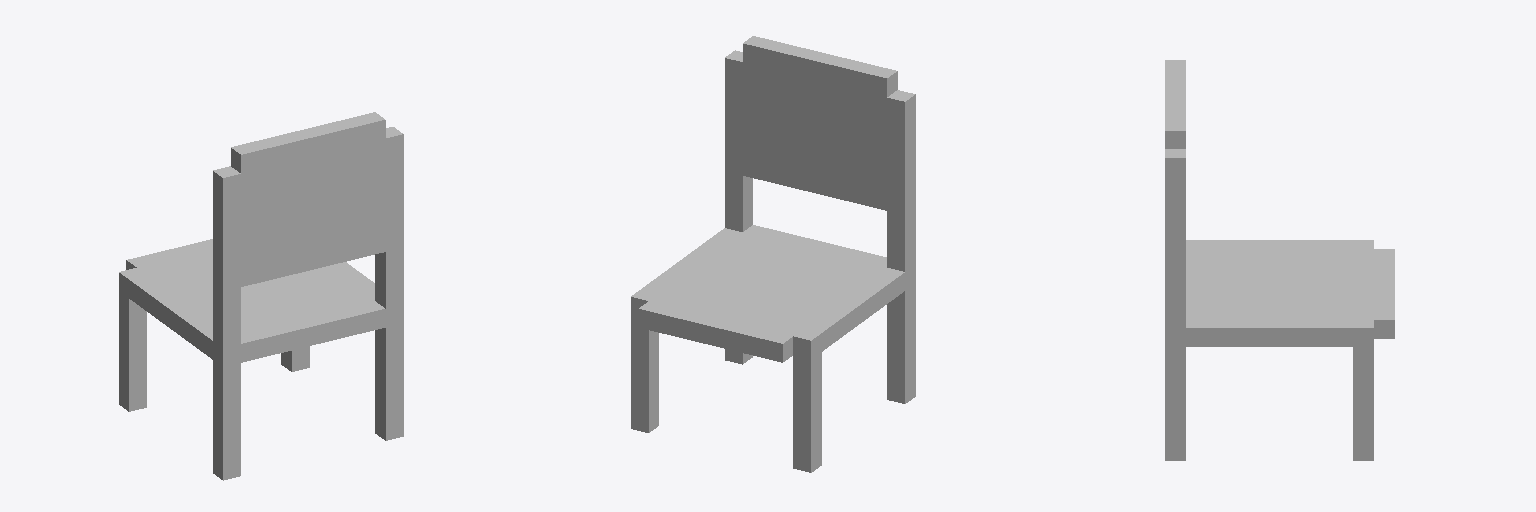
File: chair.obj
3 views of the same model, side by side, from view 1: azimuth 30°, elevation 25°; view 2: azimuth 150°, elevation 25°; view 3: azimuth 270°, elevation 25° (orthographic).
Parts seen in each view (by area): view 1: object 1; view 2: object 1; view 3: object 1.
Part boxes in pixels (x1,y1,x2,y2): object 1: (119, 112, 403, 480); object 1: (631, 36, 915, 472); object 1: (1165, 60, 1394, 460).
Bounding box in the file's own units: 1 × 1.7 × 1.1.